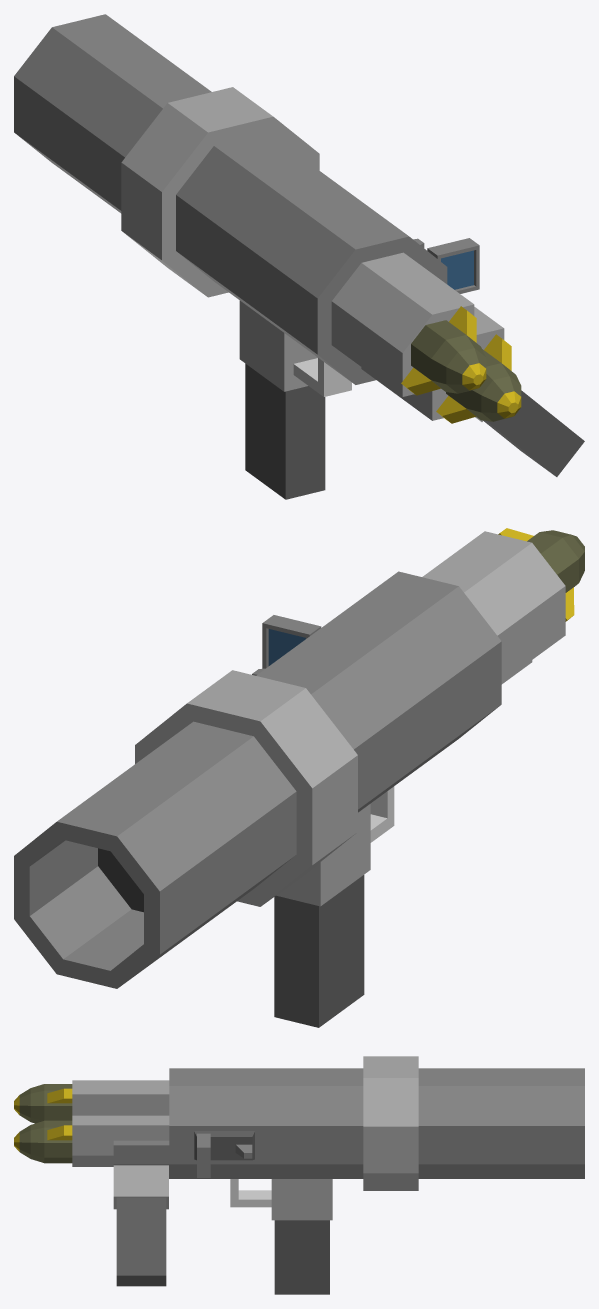
Rendered from rocketlauncherModernRotating.fbx.
The picture shows the model from 3 angles, top to bottom: view 1: azimuth 30°, elevation 25°; view 2: azimuth 150°, elevation 25°; view 3: azimuth 270°, elevation 25°; orthographic projection. The views are drawn at different scales.
Parts seen in each view (by area): view 1: Mesh4_Group5 Group1 Model, Mesh3_Group4 Group1 Model, Mesh1_Group2 Group1 Model, Mesh2_Group3 Group1 Model; view 2: Mesh4_Group5 Group1 Model, Mesh3_Group4 Group1 Model, Mesh1_Group2 Group1 Model; view 3: Mesh4_Group5 Group1 Model, Mesh3_Group4 Group1 Model, Mesh2_Group3 Group1 Model, Mesh1_Group2 Group1 Model.
Part boxes in pixels (x1=…): Mesh4_Group5 Group1 Model: x1=14, y1=14, x2=584, y2=499; Mesh3_Group4 Group1 Model: x1=331, y1=252, x2=504, y2=420; Mesh1_Group2 Group1 Model: x1=401, y1=306, x2=486, y2=395; Mesh2_Group3 Group1 Model: x1=436, y1=334, x2=521, y2=423; Mesh4_Group5 Group1 Model: x1=14, y1=571, x2=501, y2=1027; Mesh3_Group4 Group1 Model: x1=422, y1=531, x2=565, y2=684; Mesh1_Group2 Group1 Model: x1=498, y1=528, x2=584, y2=621; Mesh4_Group5 Group1 Model: x1=113, y1=1056, x2=584, y2=1294; Mesh3_Group4 Group1 Model: x1=72, y1=1080, x2=169, y2=1166; Mesh2_Group3 Group1 Model: x1=14, y1=1120, x2=72, y2=1163; Mesh1_Group2 Group1 Model: x1=14, y1=1084, x2=72, y2=1123.
Size of the model in its own units: 0.0415 by 0.0528 by 0.1236.
